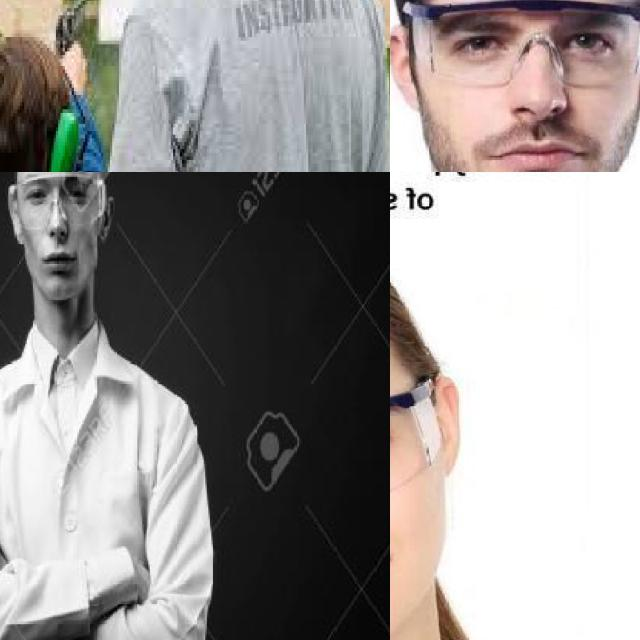Ear-protection: (44, 102, 78, 172)
face_nomask: (441, 17, 621, 172), (9, 177, 100, 284)
glasses: (403, 0, 640, 87), (390, 367, 447, 551), (7, 172, 107, 240)
person: (0, 172, 224, 640), (123, 0, 390, 172)
